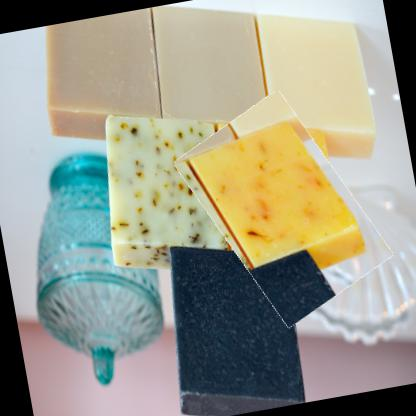soap: (182, 86, 382, 330)
